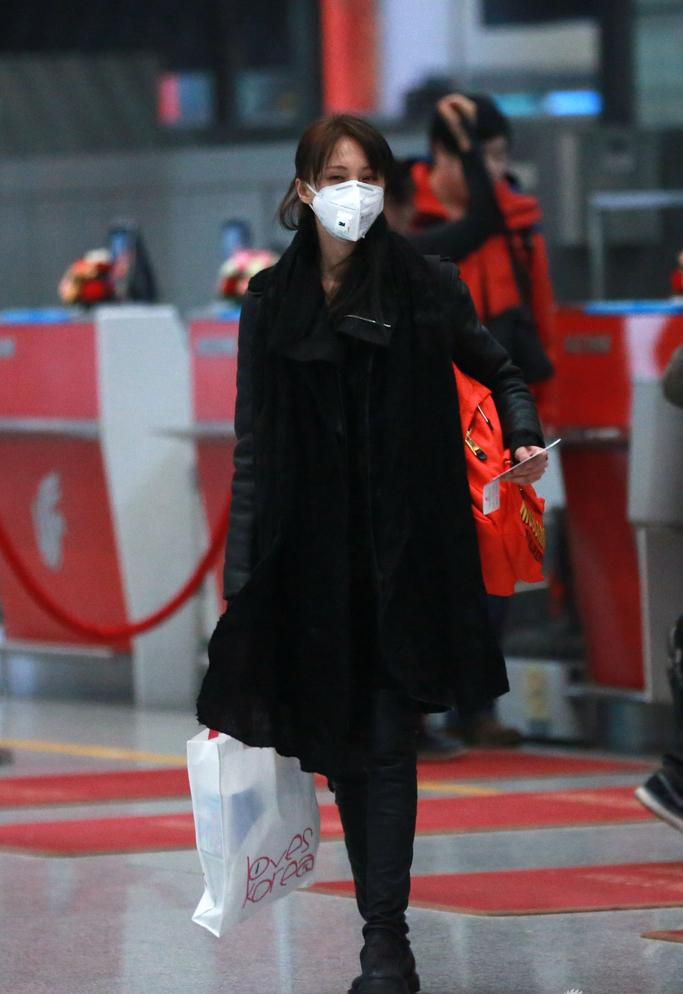face_mask: (315, 139, 378, 247)
